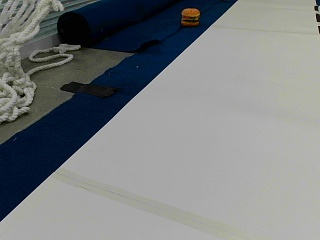burger: (180, 6, 200, 26)
